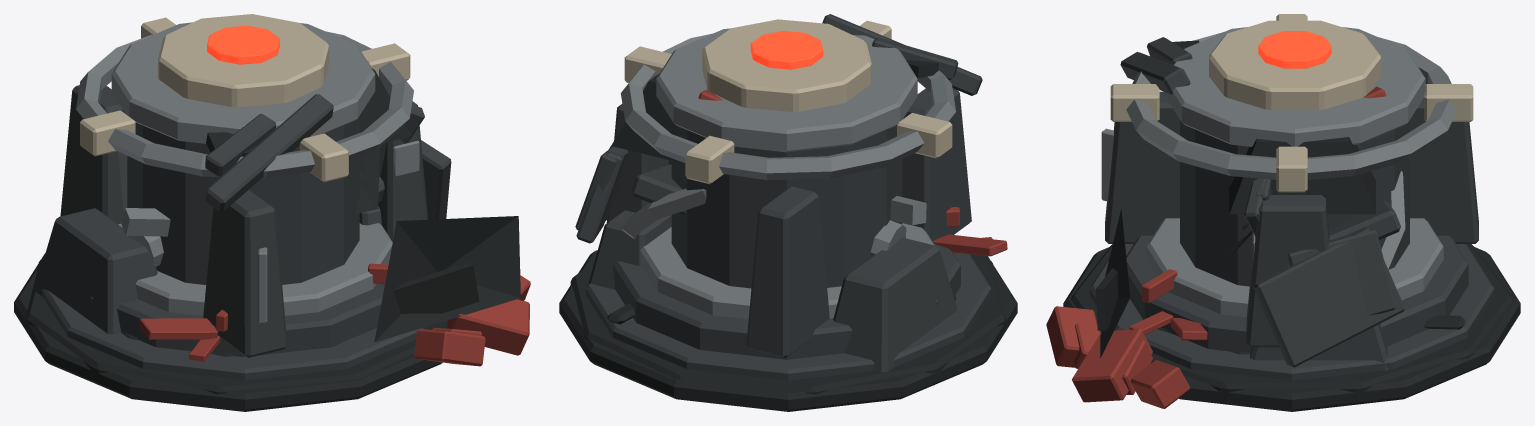
Rendered from ff_en_rct_01_v1.glb.
The picture shows the model from 3 angles, left to right: view 1: azimuth 30°, elevation 25°; view 2: azimuth 150°, elevation 25°; view 3: azimuth 270°, elevation 25°; orthographic projection.
Visible parts, largest first — view 1: FF_EN_RCT_01_M_EnemyObsidianArmor_runtime, FF_EN_RCT_01_M_EnemyGunmetal_runtime, damage_critical_collapse, FF_EN_RCT_01_M_EnemyMarking_runtime, ruin_collapsed_structure, FF_EN_RCT_01_M_EnemyRecess_runtime, reactor_ring_M_EnemyGunmetal_runtime, damage_critical_bent_armor, ruin_foundation, damage_critical_debris, reactor_ring_M_EnemyMarking_runtime, damage_damaged_breach (+5 smaller); view 2: FF_EN_RCT_01_M_EnemyObsidianArmor_runtime, FF_EN_RCT_01_M_EnemyGunmetal_runtime, ruin_collapsed_structure, FF_EN_RCT_01_M_EnemyMarking_runtime, FF_EN_RCT_01_M_EnemyRecess_runtime, reactor_ring_M_EnemyGunmetal_runtime, ruin_foundation, reactor_ring_M_EnemyMarking_runtime, ruin_broken_machinery, damage_critical_bent_armor, FF_EN_RCT_01_M_EnemySignal_runtime, damage_damaged_bent_armor (+3 smaller); view 3: FF_EN_RCT_01_M_EnemyObsidianArmor_runtime, FF_EN_RCT_01_M_EnemyGunmetal_runtime, damage_critical_bent_armor, FF_EN_RCT_01_M_EnemyMarking_runtime, reactor_ring_M_EnemyGunmetal_runtime, FF_EN_RCT_01_M_EnemyRecess_runtime, damage_critical_debris, ruin_foundation, damage_critical_collapse, reactor_ring_M_EnemyMarking_runtime, damage_damaged_bent_armor, ruin_collapsed_structure (+6 smaller).
Boxes of the visible parts, bbox=[...] form: FF_EN_RCT_01_M_EnemyObsidianArmor_runtime: bbox=[42, 85, 428, 380]; FF_EN_RCT_01_M_EnemyGunmetal_runtime: bbox=[111, 22, 419, 322]; damage_critical_collapse: bbox=[355, 68, 520, 342]; FF_EN_RCT_01_M_EnemyMarking_runtime: bbox=[158, 14, 328, 107]; ruin_collapsed_structure: bbox=[34, 177, 384, 334]; FF_EN_RCT_01_M_EnemyRecess_runtime: bbox=[14, 253, 442, 411]; reactor_ring_M_EnemyGunmetal_runtime: bbox=[76, 31, 413, 178]; damage_critical_bent_armor: bbox=[205, 94, 451, 219]; ruin_foundation: bbox=[25, 256, 447, 394]; damage_critical_debris: bbox=[414, 275, 530, 366]; reactor_ring_M_EnemyMarking_runtime: bbox=[80, 17, 410, 182]; damage_damaged_breach: bbox=[206, 132, 479, 313]; FF_EN_RCT_01_M_EnemyObsidianArmor_runtime: bbox=[585, 88, 991, 380]; FF_EN_RCT_01_M_EnemyGunmetal_runtime: bbox=[640, 28, 934, 319]; ruin_collapsed_structure: bbox=[588, 164, 957, 373]; FF_EN_RCT_01_M_EnemyMarking_runtime: bbox=[702, 19, 871, 111]; FF_EN_RCT_01_M_EnemyRecess_runtime: bbox=[559, 250, 1017, 411]; reactor_ring_M_EnemyGunmetal_runtime: bbox=[620, 33, 956, 180]; ruin_foundation: bbox=[570, 254, 1006, 394]; reactor_ring_M_EnemyMarking_runtime: bbox=[624, 20, 952, 184]; ruin_broken_machinery: bbox=[622, 188, 926, 256]; damage_critical_bent_armor: bbox=[576, 14, 982, 243]; FF_EN_RCT_01_M_EnemySignal_runtime: bbox=[750, 31, 823, 69]; damage_damaged_bent_armor: bbox=[575, 37, 958, 229]; FF_EN_RCT_01_M_EnemyObsidianArmor_runtime: bbox=[1089, 91, 1494, 380]; FF_EN_RCT_01_M_EnemyGunmetal_runtime: bbox=[1101, 27, 1443, 317]; damage_critical_bent_armor: bbox=[1120, 52, 1404, 367]; FF_EN_RCT_01_M_EnemyMarking_runtime: bbox=[1209, 20, 1380, 110]; reactor_ring_M_EnemyGunmetal_runtime: bbox=[1126, 32, 1457, 179]; FF_EN_RCT_01_M_EnemyRecess_runtime: bbox=[1063, 247, 1520, 411]; damage_critical_debris: bbox=[1046, 86, 1386, 408]; ruin_foundation: bbox=[1071, 244, 1512, 404]; damage_critical_collapse: bbox=[1100, 137, 1375, 358]; reactor_ring_M_EnemyMarking_runtime: bbox=[1110, 14, 1473, 192]; damage_damaged_bent_armor: bbox=[1147, 37, 1395, 315]; ruin_collapsed_structure: bbox=[1250, 201, 1400, 370].
Size of the model in its own units: 7.93 by 5.08 by 7.92.
